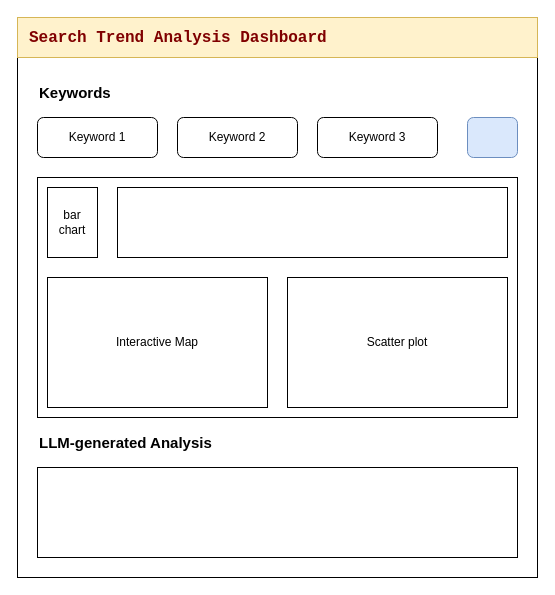
Image size: 555x595. Some labels were removed from this diagram. Each missing label, with the centre of its shape:
"Analyze" goes at point (492, 137).
"line chart" goes at point (312, 222).
"Text here" goes at point (277, 512).
